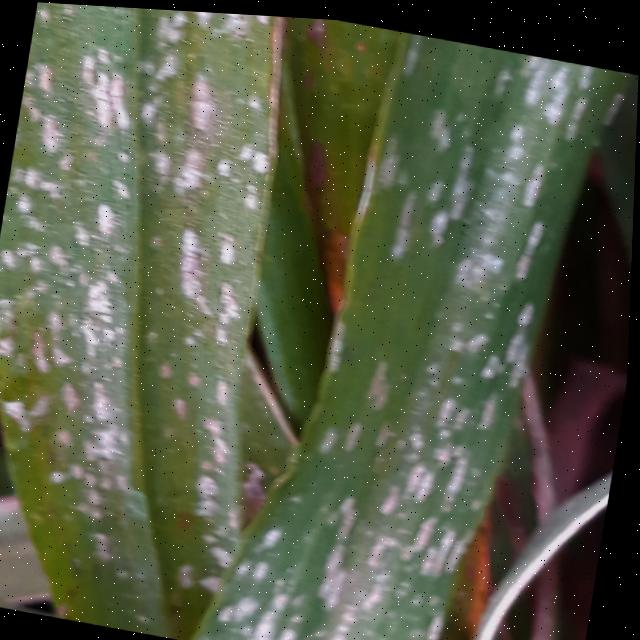powder_mildew: (210, 11, 639, 640), (0, 0, 301, 640)
